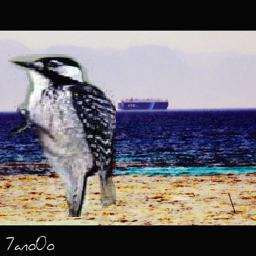Woodpecker: (8, 55, 116, 218)
